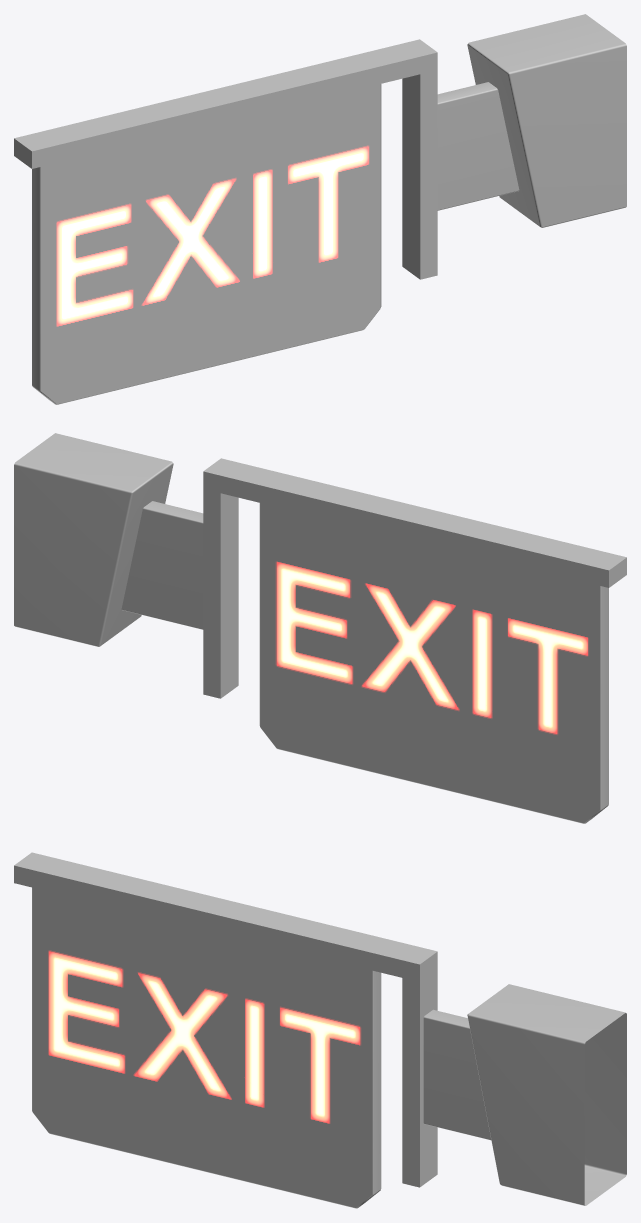
The model's file is exitMesh.fbx.
The picture shows the model from 3 angles, top to bottom: view 1: azimuth 30°, elevation 25°; view 2: azimuth 150°, elevation 25°; view 3: azimuth 330°, elevation 25°; orthographic projection.
Parts seen in each view (by area): view 1: polySurface2; view 2: polySurface2; view 3: polySurface2.
Boxes of the visible parts, x1,y1,x2,y2 form: polySurface2: (14, 14, 626, 404); polySurface2: (14, 433, 626, 823); polySurface2: (14, 852, 626, 1208).
Bounding box in the file's own units: 123 × 53.27 × 15.42.
